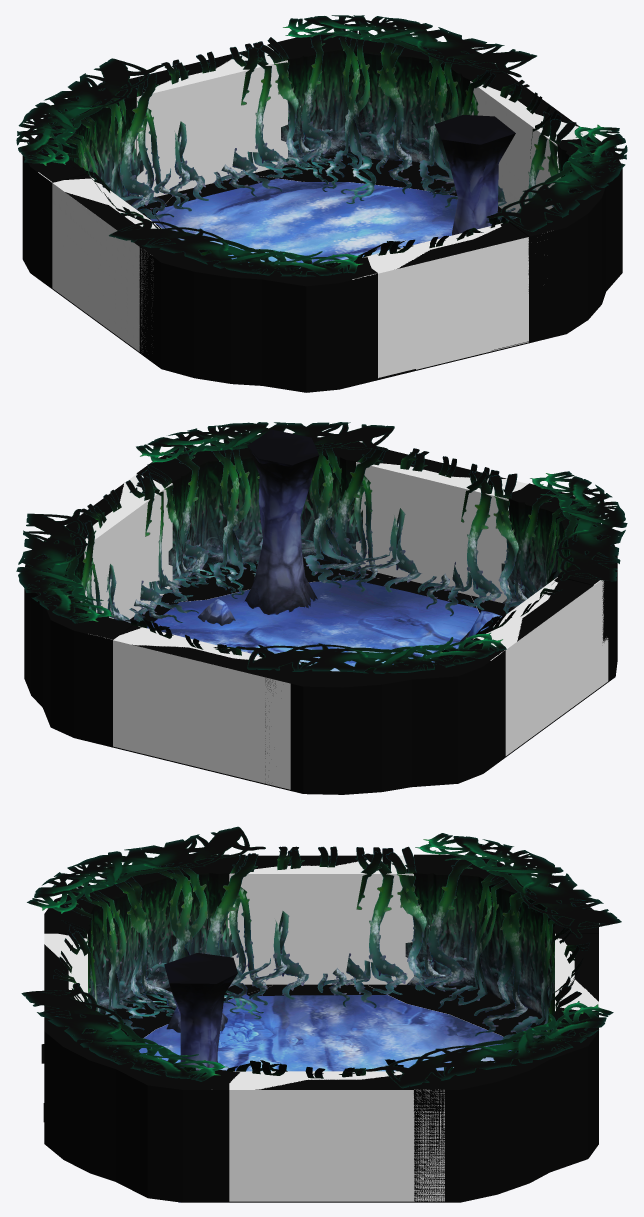
The model's file is Dungeon_012_StartRoom_001_008.fbx.
3 renders of one model, top to bottom at view 1: azimuth 30°, elevation 25°; view 2: azimuth 150°, elevation 25°; view 3: azimuth 270°, elevation 25°, orthographic. The views are drawn at different scales.
Visible parts, largest first — view 1: Dun_011_StartRoom_001_wall, DoorWay_NavMask (1) (×2), Dungeon_021_Tsuta_002, DoorWay_NavMask (×4), Dun_011_StartRoom_001_ground, un_021_Door_002_Object1 (×3), Dungeon_021_Tsuta_001, un_021_Door_002 (×4), Dungeon_011_Object_010, Dun_011_StartRoom_001_shadow, Dungeon_021_Tsuta_003, Dun_011_Door_002_shadow; view 2: Dun_011_StartRoom_001_wall, DoorWay_NavMask (1) (×2), DoorWay_NavMask (×4), Dungeon_021_Tsuta_002, un_021_Door_002_Object1 (×4), Dun_011_StartRoom_001_ground, un_021_Door_002 (×4), Dungeon_011_Object_010, Dungeon_021_Tsuta_001, Dun_011_StartRoom_001_shadow, Dun_011_Door_002_shadow, Dungeon_021_Tsuta_003 (+1 smaller); view 3: Dun_011_StartRoom_001_wall, Dungeon_021_Tsuta_002, DoorWay_NavMask (1) (×2), DoorWay_NavMask (×4), Dun_011_StartRoom_001_ground, un_021_Door_002_Object1 (×4), Dungeon_021_Tsuta_001, un_021_Door_002 (×4), Dungeon_011_Object_010, Dun_011_StartRoom_001_shadow, Dun_011_Door_002_shadow, Dungeon_021_Tsuta_003.
Part boxes in pixels (x1=…): Dun_011_StartRoom_001_wall: x1=22, y1=34, x2=622, y2=392; DoorWay_NavMask (1) (×2): x1=38, y1=172, x2=547, y2=378; Dungeon_021_Tsuta_002: x1=16, y1=15, x2=627, y2=276; DoorWay_NavMask (×4): x1=53, y1=46, x2=587, y2=273; Dun_011_StartRoom_001_ground: x1=150, y1=178, x2=457, y2=268; un_021_Door_002_Object1 (×3): x1=120, y1=37, x2=576, y2=258; Dungeon_021_Tsuta_001: x1=41, y1=28, x2=608, y2=269; un_021_Door_002 (×4): x1=34, y1=37, x2=600, y2=379; Dungeon_011_Object_010: x1=434, y1=114, x2=515, y2=235; Dun_011_StartRoom_001_shadow: x1=131, y1=155, x2=528, y2=378; Dungeon_021_Tsuta_003: x1=264, y1=153, x2=376, y2=203; Dun_011_Door_002_shadow: x1=165, y1=175, x2=276, y2=206; Dun_011_StartRoom_001_wall: x1=24, y1=442, x2=617, y2=794; DoorWay_NavMask (1) (×2): x1=90, y1=580, x2=608, y2=789; DoorWay_NavMask (×4): x1=84, y1=462, x2=557, y2=660; Dungeon_021_Tsuta_002: x1=16, y1=422, x2=627, y2=673; un_021_Door_002_Object1 (×4): x1=77, y1=447, x2=563, y2=657; Dun_011_StartRoom_001_ground: x1=147, y1=580, x2=479, y2=671; un_021_Door_002 (×4): x1=42, y1=441, x2=599, y2=784; Dungeon_011_Object_010: x1=244, y1=429, x2=319, y2=614; Dungeon_021_Tsuta_001: x1=42, y1=439, x2=602, y2=670; Dun_011_StartRoom_001_shadow: x1=161, y1=558, x2=514, y2=616; Dun_011_Door_002_shadow: x1=359, y1=577, x2=476, y2=607; Dungeon_021_Tsuta_003: x1=174, y1=560, x2=258, y2=598; Dun_011_StartRoom_001_wall: x1=44, y1=855, x2=598, y2=1202; Dungeon_021_Tsuta_002: x1=21, y1=826, x2=621, y2=1088; DoorWay_NavMask (1) (×2): x1=44, y1=933, x2=444, y2=1201; DoorWay_NavMask (×4): x1=45, y1=856, x2=598, y2=1089; Dun_011_StartRoom_001_ground: x1=139, y1=994, x2=511, y2=1202; un_021_Door_002_Object1 (×4): x1=53, y1=846, x2=589, y2=1078; Dungeon_021_Tsuta_001: x1=64, y1=854, x2=578, y2=1072; un_021_Door_002 (×4): x1=44, y1=854, x2=598, y2=1202; Dungeon_011_Object_010: x1=164, y1=953, x2=237, y2=1070; Dun_011_StartRoom_001_shadow: x1=41, y1=984, x2=546, y2=1121; Dun_011_Door_002_shadow: x1=247, y1=984, x2=386, y2=996; Dungeon_021_Tsuta_003: x1=120, y1=990, x2=263, y2=1019.
Size of what is drawn, in the model's own units: 10.31 by 2.96 by 10.
